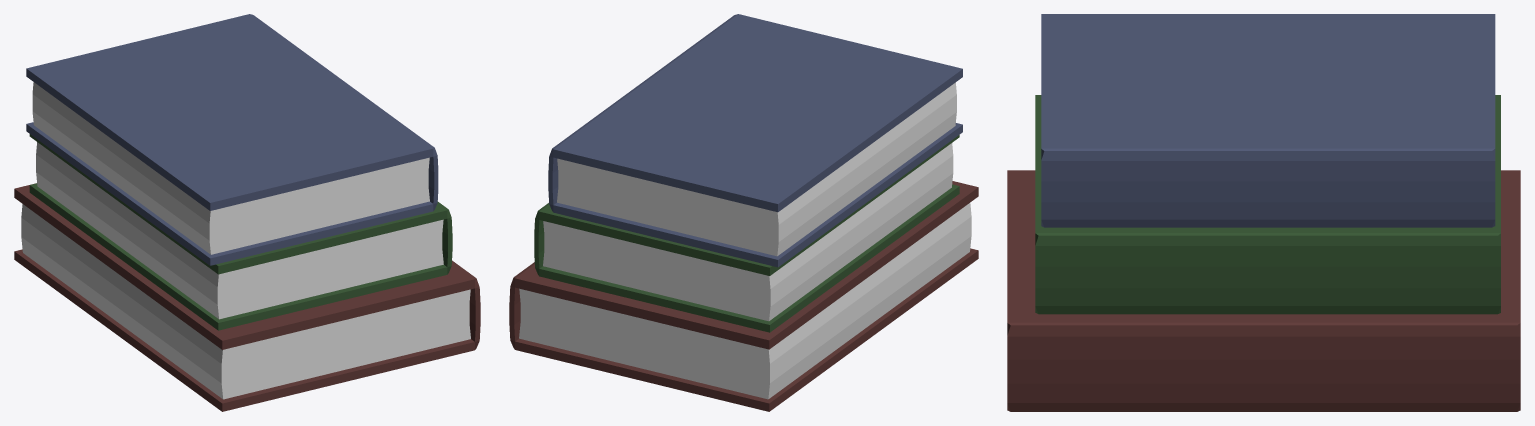
File: VJ_PackLlibres_02.fbx
The picture shows the model from 3 angles, left to right: view 1: azimuth 30°, elevation 25°; view 2: azimuth 150°, elevation 25°; view 3: azimuth 270°, elevation 25°; orthographic projection. The views are drawn at different scales.
Visible parts, largest first — view 1: PackLlibres_02; view 2: PackLlibres_02; view 3: PackLlibres_02.
Part boxes in pixels (x1=…): PackLlibres_02: x1=14, y1=14, x2=480, y2=411; PackLlibres_02: x1=509, y1=14, x2=978, y2=411; PackLlibres_02: x1=1007, y1=14, x2=1520, y2=411.
Size of the model in its own units: 3.79 by 2.78 by 5.29.
